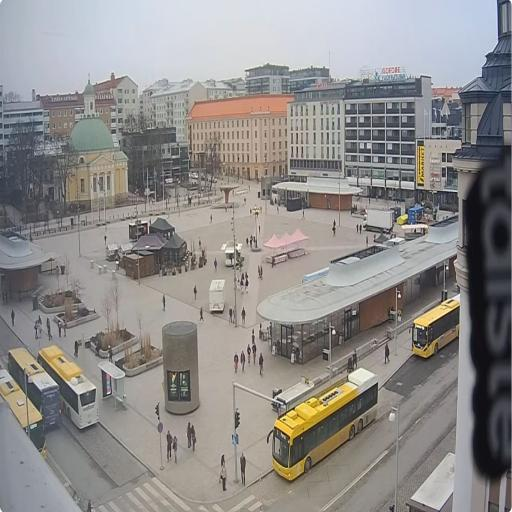bus: (264, 368, 381, 484), (36, 348, 102, 432), (6, 347, 65, 432), (0, 364, 50, 463), (408, 293, 459, 361)
car: (208, 174, 219, 184), (191, 172, 199, 180), (200, 172, 205, 182)
delivery: (362, 205, 395, 236)
